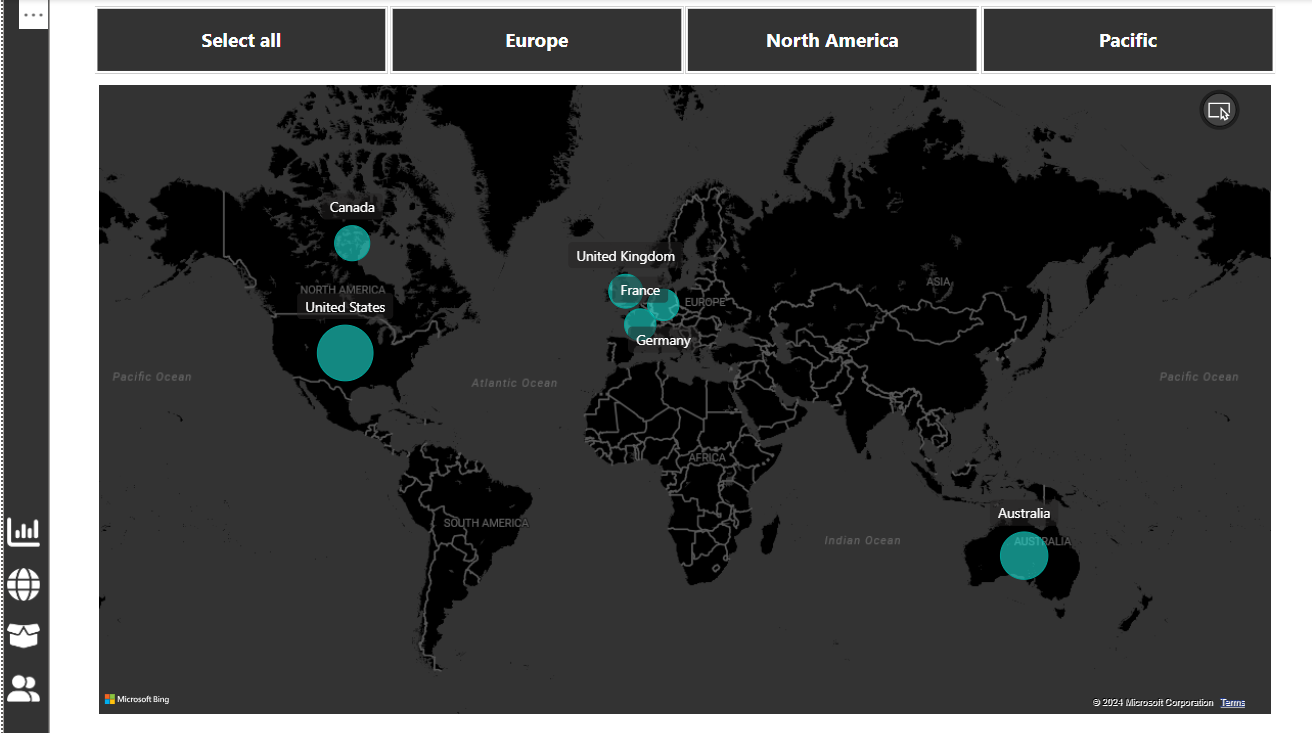

The dashboard page shown, as its layout file describes it:
{"tool":"powerbi","page":{"name":"Map","canvas":[1280,720],"ordinal":1},"visuals":[{"type":"shape","box":[0,0,45,720.2],"z":0},{"type":"map","fields":{"Category":["Territory Lookup.Country"],"Size":["Measure Table.Total Orders"]},"box":[89.3,79.5,1155.6,624.9],"z":1000},{"type":"actionButton","box":[0.2,500.9,45.2,40.4],"z":2000,"group":"g1"},{"type":"slicer","fields":{"Values":["Territory Lookup.Continent"]},"box":[63.6,0,1204.5,79.5],"z":2000},{"type":"group","id":"g1","title":"Navigation Buttons","box":[0.2,500.9,45.2,193.2],"z":3000},{"type":"actionButton","box":[0.2,551.9,45.2,40.4],"z":4000,"group":"g1"},{"type":"actionButton","box":[0.2,602.8,45.2,40.4],"z":5000,"group":"g1"},{"type":"actionButton","box":[0.2,653.8,45.2,40.4],"z":6000,"group":"g1"}]}

Visuals, with their boxes in screenshot pixels (x1, y1, x2, y2):
shape: region(0, 3, 45, 728)
map - Territory Lookup.Country x Measure Table.Total Orders: region(90, 83, 1253, 712)
actionButton: region(0, 507, 45, 548)
slicer - Territory Lookup.Continent: region(64, 3, 1276, 83)
"Navigation Buttons" group: region(0, 507, 45, 702)
actionButton: region(0, 559, 45, 599)
actionButton: region(0, 610, 45, 651)
actionButton: region(0, 661, 45, 702)
